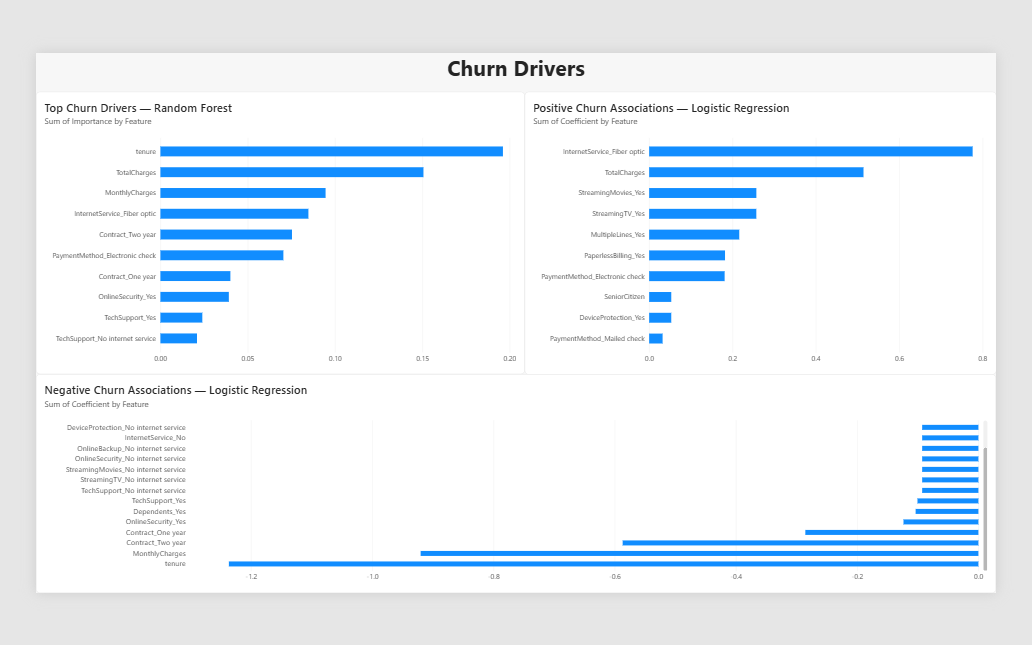

The dashboard page shown, as its layout file describes it:
{"tool":"powerbi","page":{"name":"Churn Drivers.","canvas":[1920,1080],"ordinal":1},"visuals":[{"type":"clusteredBarChart","title":"Top Churn Drivers — Random Forest","fields":{"Category":["random_forest_feature_importance.Feature"],"Y":["Sum(random_forest_feature_importance.Importance)"]},"box":[0,77.5,977.5,565],"z":0},{"type":"clusteredBarChart","title":"Positive Churn Associations — Logistic Regression","fields":{"Category":["logistic_regression_coefficients.Feature"],"Y":["Sum(logistic_regression_coefficients.Coefficient)"]},"box":[977.6,77.6,942.9,565.3],"z":1},{"type":"clusteredBarChart","title":"Negative Churn Associations — Logistic Regression","fields":{"Category":["logistic_regression_coefficients.Feature"],"Y":["Sum(logistic_regression_coefficients.Coefficient)"]},"box":[0,642.5,1920,437.5],"z":2},{"type":"textbox","box":[0,0,1920,77.5],"z":4}]}

Visuals, with their boxes on the page's 1920x1080 design canvas (x1, y1, x2, y2). These are canvas units, not pixel positions in the 1032x645 screenshot, which may show the page scaled, cropped or inside an application window:
"Top Churn Drivers — Random Forest" clusteredBarChart: {"left": 0, "top": 78, "right": 978, "bottom": 642}
"Positive Churn Associations — Logistic Regression" clusteredBarChart: {"left": 978, "top": 78, "right": 1920, "bottom": 643}
"Negative Churn Associations — Logistic Regression" clusteredBarChart: {"left": 0, "top": 642, "right": 1920, "bottom": 1080}
textbox: {"left": 0, "top": 0, "right": 1920, "bottom": 78}
